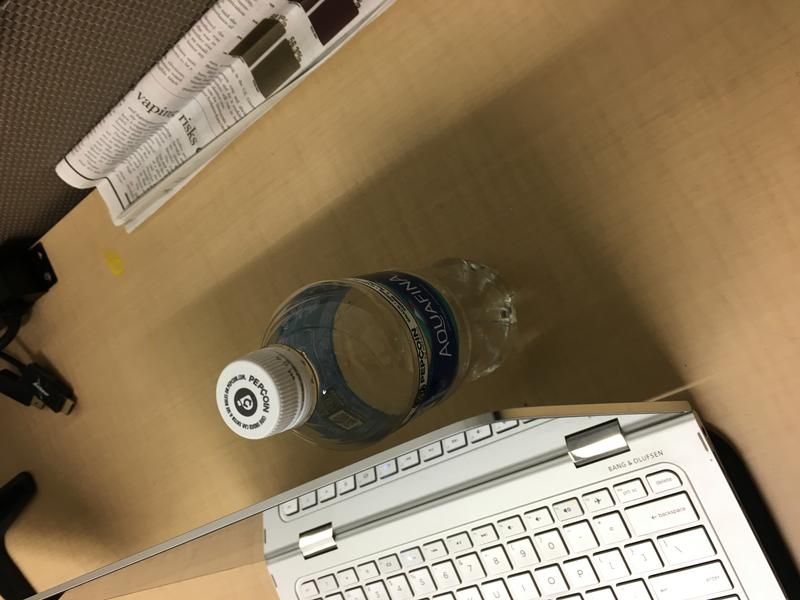bottle: (214, 257, 522, 446)
